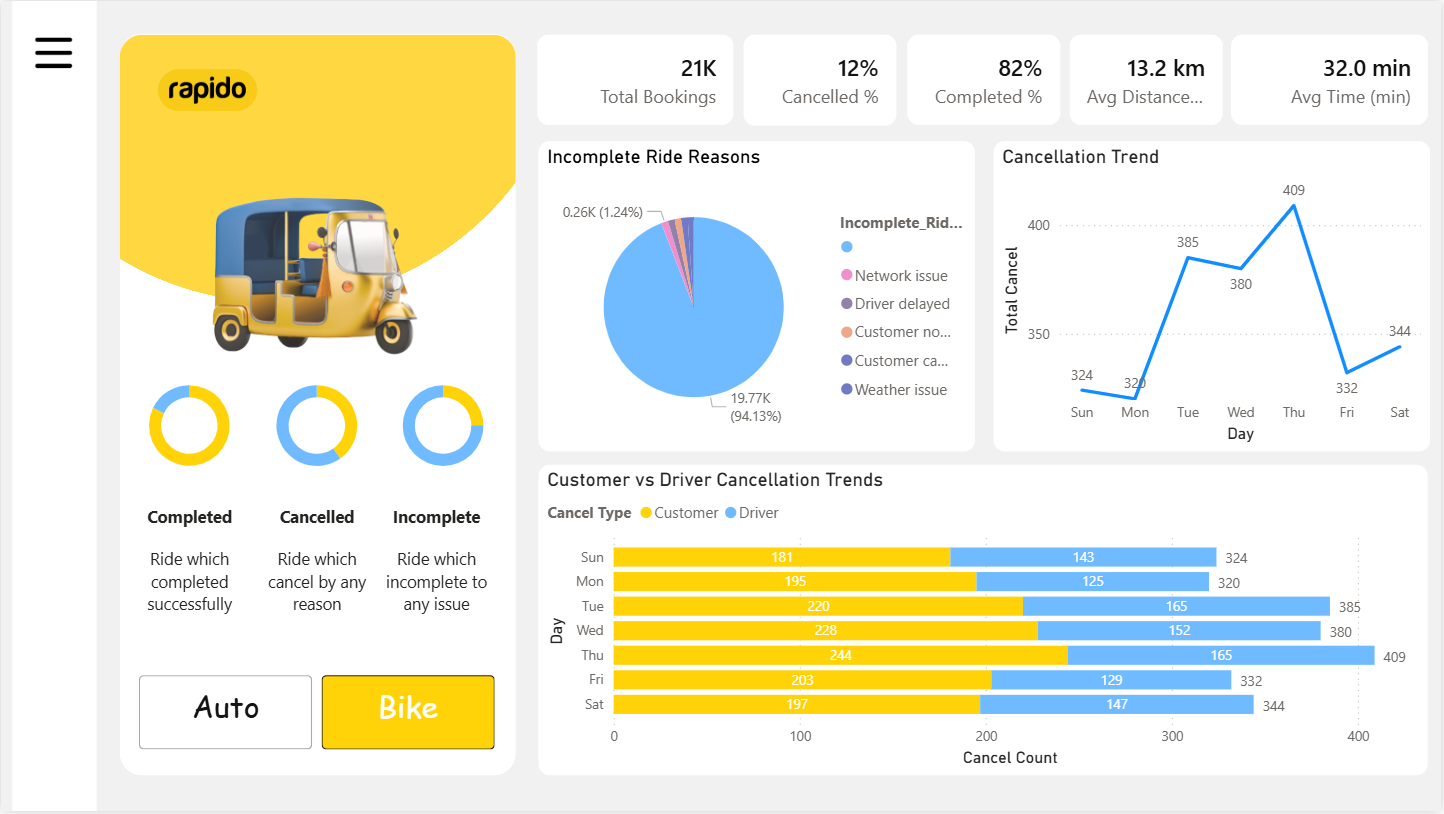

Layout of this report page (visuals, bound fields, positions):
{"tool":"powerbi","page":{"name":"Cancellation & Issues","canvas":[1280,720],"ordinal":5},"visuals":[{"type":"shape","box":[105.3,28.9,352,659.3],"z":0},{"type":"image","box":[105,30.3,352.4,658.5],"z":1000},{"type":"shape","box":[10.1,0,75,719.9],"z":2000},{"type":"image","box":[20.2,24.5,53.4,43.3],"z":3000},{"type":"cardVisual","fields":{"Data":["Measure.Total Bookings"]},"box":[477,30.3,174.4,80.1],"z":4000},{"type":"cardVisual","fields":{"Data":["Measure.Cancelled %"]},"box":[660,30,135.6,80.8],"z":5000},{"type":"cardVisual","fields":{"Data":["Measure.Completed %"]},"box":[805,30,135.6,80],"z":6000},{"type":"image","box":[105.3,30.3,155.8,98.1],"z":7000},{"type":"cardVisual","fields":{"Data":["Measure.Avg Distance"]},"box":[950,30,135.6,80],"z":8000},{"type":"cardVisual","fields":{"Data":["Measure.Avg Time"]},"box":[1093.6,30,175,80],"z":9000},{"type":"image","box":[156.9,118.5,249.4,241.1],"z":10000},{"type":"donutChart","fields":{"Y":["Measure.Completed","Measure.Completed Remaining"]},"box":[117.5,327.5,99.7,99.7],"z":11000},{"type":"donutChart","fields":{"Y":["Measure.Incomplete","Measure.Incompleted Remaining"]},"box":[343.5,327.5,99.7,99.7],"z":12000},{"type":"donutChart","fields":{"Y":["Measure.Cancelled","Measure.Cancelled Remaining"]},"box":[231.4,327.5,99.7,99.7],"z":13000},{"type":"textbox","box":[117.5,443.2,99.7,144.2],"z":14000},{"type":"textbox","box":[231.4,443.2,99.7,151.3],"z":15000},{"type":"textbox","box":[331,443.2,112.1,144.2],"z":16000},{"type":"barChart","title":"Customer vs Driver Cancellation Trends","fields":{"Category":["Rapido.Day"],"Series":["Cancel Table.Cancel Type"],"Y":["Cancel Table.Cancel Count"]},"box":[477.3,412.3,790.1,276.2],"z":17000},{"type":"lineChart","title":"Cancellation Trend","fields":{"Category":["Rapido.Day"],"Y":["Measure.Total Cancel"]},"box":[882,124,388,276],"z":18000},{"type":"pieChart","title":"Incomplete Ride Reasons","fields":{"Category":["Rapido.Incomplete_Rides_Reason"],"Y":["CountNonNull(Rapido.Booking_ID)"]},"box":[477.3,123.9,387.9,276.2],"z":19000},{"type":"advancedSlicerVisual","fields":{"Values":["Rapido.Vehicle_Type"]},"box":[118.3,594.4,326.1,76.5],"z":20000}]}

Visuals, with their boxes in screenshot pixels (x1, y1, x2, y2), scaled from the page's 1280x720 canvas onto the 1444x814 screenshot:
shape: <box>119,33,516,778</box>
image: <box>118,34,516,779</box>
shape: <box>11,0,96,813</box>
image: <box>23,28,83,77</box>
cardVisual - Measure.Total Bookings: <box>538,34,735,125</box>
cardVisual - Measure.Cancelled %: <box>745,34,898,125</box>
cardVisual - Measure.Completed %: <box>908,34,1061,124</box>
image: <box>119,34,295,145</box>
cardVisual - Measure.Avg Distance: <box>1072,34,1225,124</box>
cardVisual - Measure.Avg Time: <box>1234,34,1431,124</box>
image: <box>177,134,458,407</box>
donutChart - Measure.Completed x Measure.Completed Remaining: <box>133,370,245,483</box>
donutChart - Measure.Incomplete x Measure.Incompleted Remaining: <box>388,370,500,483</box>
donutChart - Measure.Cancelled x Measure.Cancelled Remaining: <box>261,370,374,483</box>
textbox: <box>133,501,245,664</box>
textbox: <box>261,501,374,672</box>
textbox: <box>373,501,500,664</box>
"Customer vs Driver Cancellation Trends" barChart: <box>538,466,1430,778</box>
"Cancellation Trend" lineChart: <box>995,140,1433,452</box>
"Incomplete Ride Reasons" pieChart: <box>538,140,976,452</box>
advancedSlicerVisual - Rapido.Vehicle_Type: <box>133,672,501,758</box>
